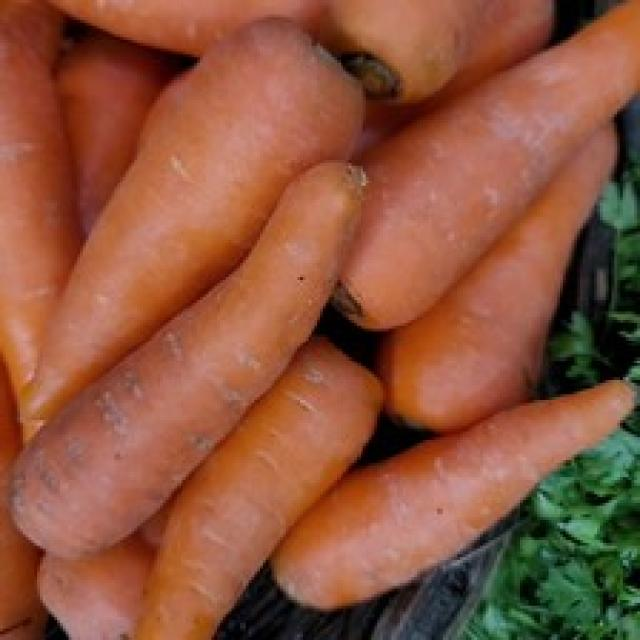Fresh_Carrot: (31, 168, 352, 578), (31, 51, 370, 393), (346, 0, 631, 358), (323, 358, 640, 624)
